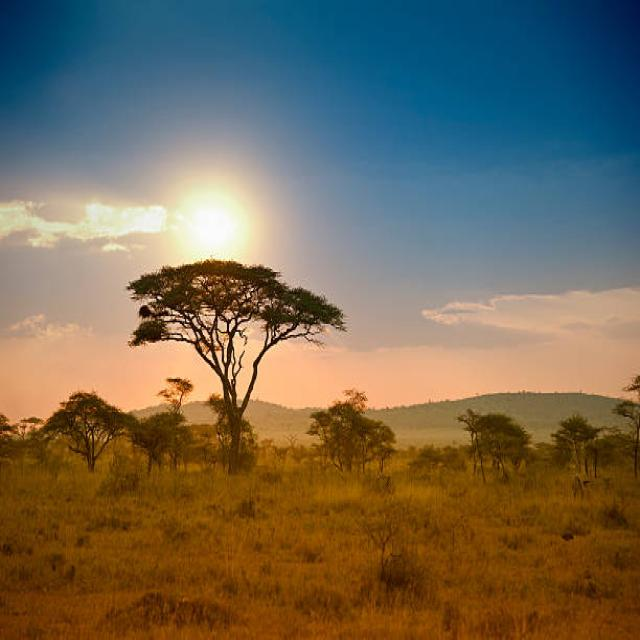Acacia: (107, 225, 340, 470)
